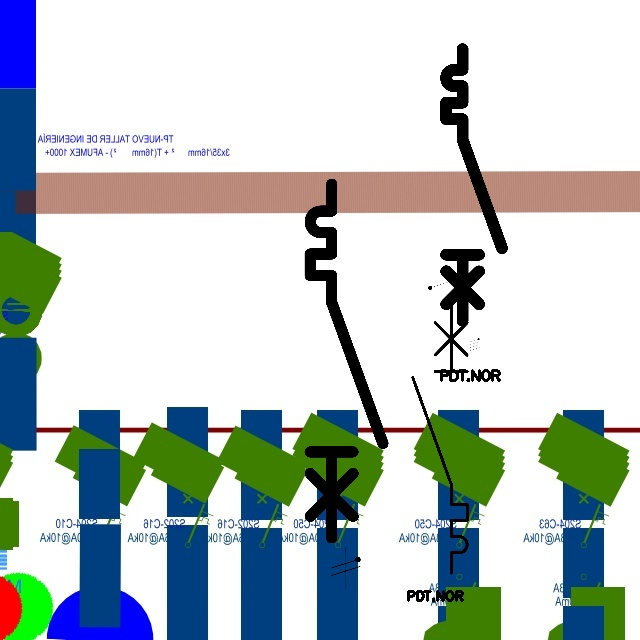interruptor_termomagnetico: (301, 175, 392, 547), (439, 42, 509, 328), (406, 299, 474, 579)
